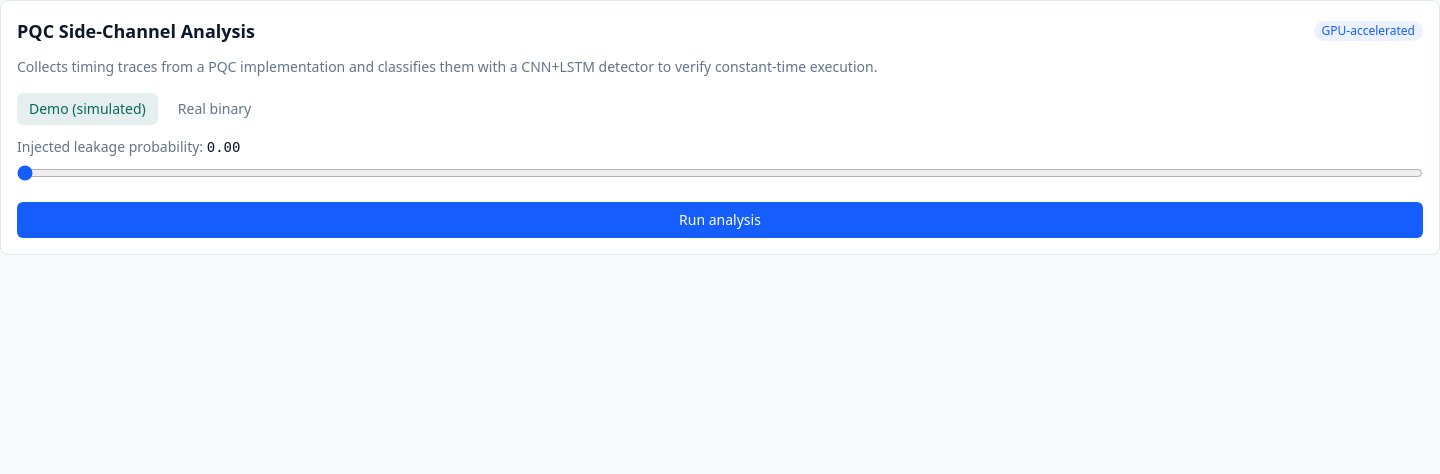
Test: SideChannelPanel › runs a simulated analysis and shows a verified verdict
Click the button "Run analysis" at (720, 220), box 17,202 -> 1423,238
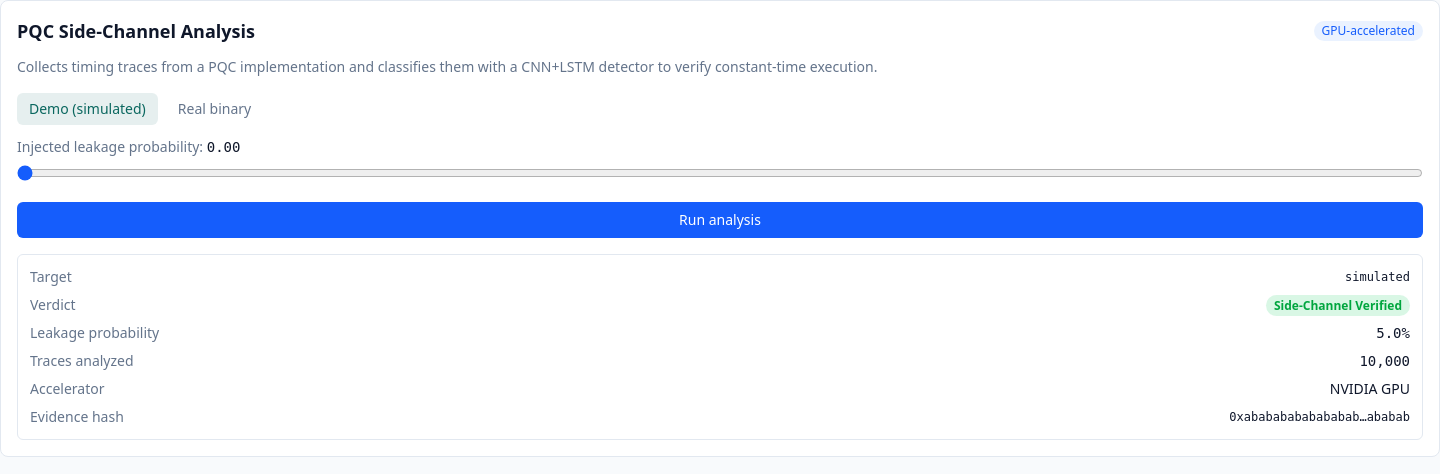
expect the text "Side-Channel Verified" is shown: met, box 1266,295 -> 1410,316
expect the text "5.0%" is shown: met, box 1376,323 -> 1410,343
expect the text "10,000" is shown: met, box 1359,351 -> 1410,371
